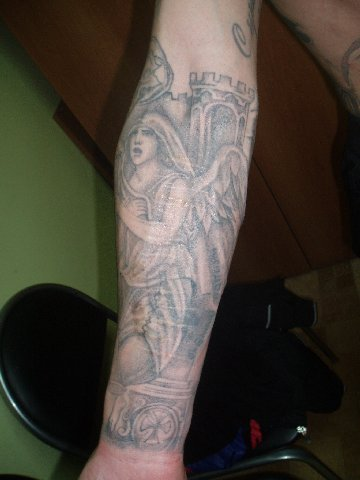tatu1_angel: (126, 115, 214, 385)
